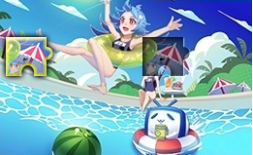gap: (142, 37, 190, 76)
